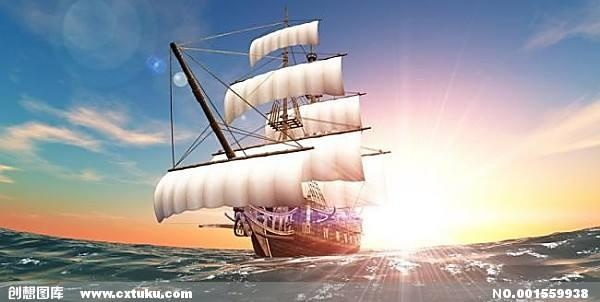fanchuan: (153, 1, 381, 256)
